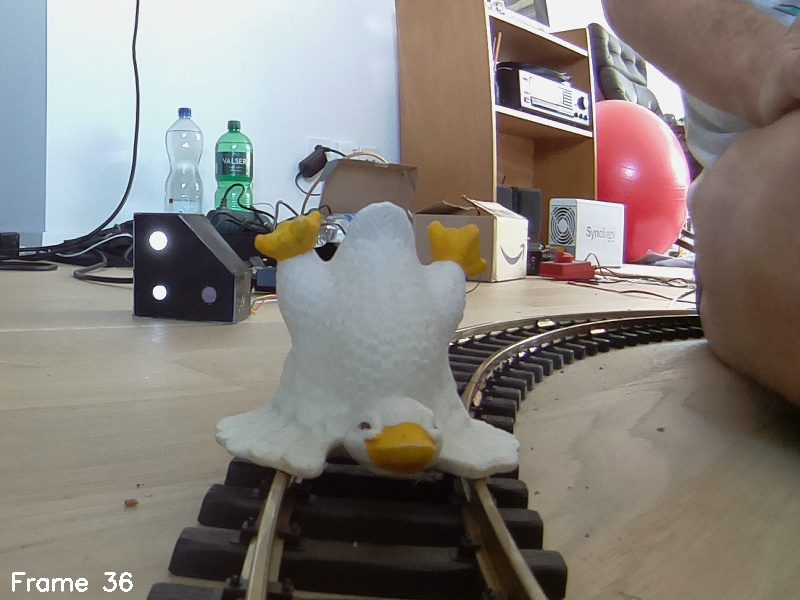Ente: (220, 203, 530, 485)
Fahrt: (133, 210, 250, 323)
